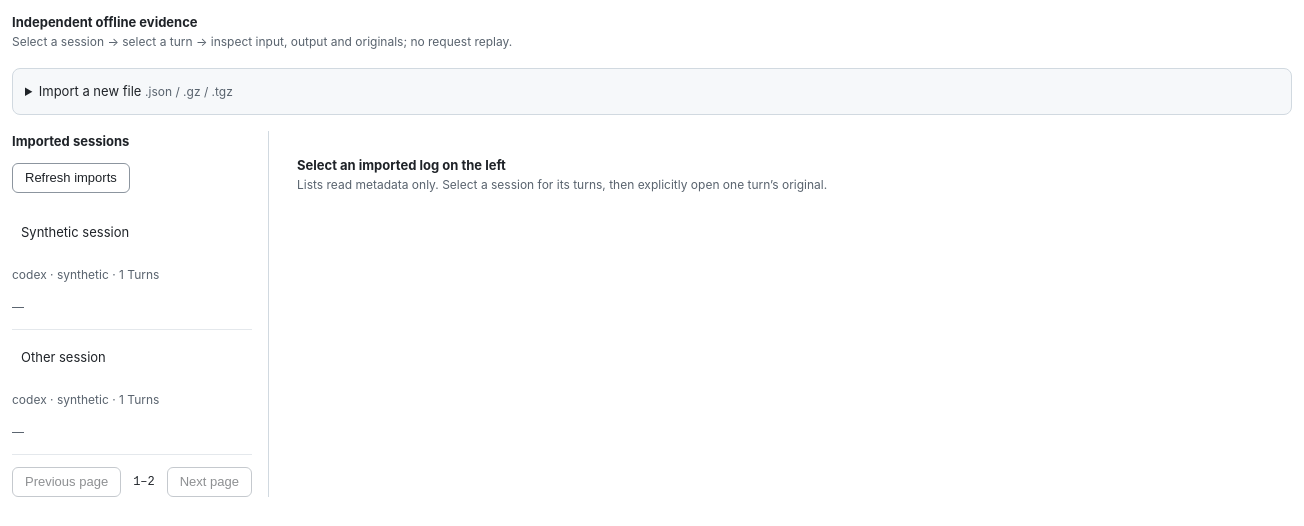
Test: lazy TraceLog import inspection › does not display late old-session turn metadata or a mismatched detail response
This screenshot has width=1304, height=526.
Step 1. Click the button "Synthetic session" → {"x": 132, "y": 235}, box [12,213,252,257]
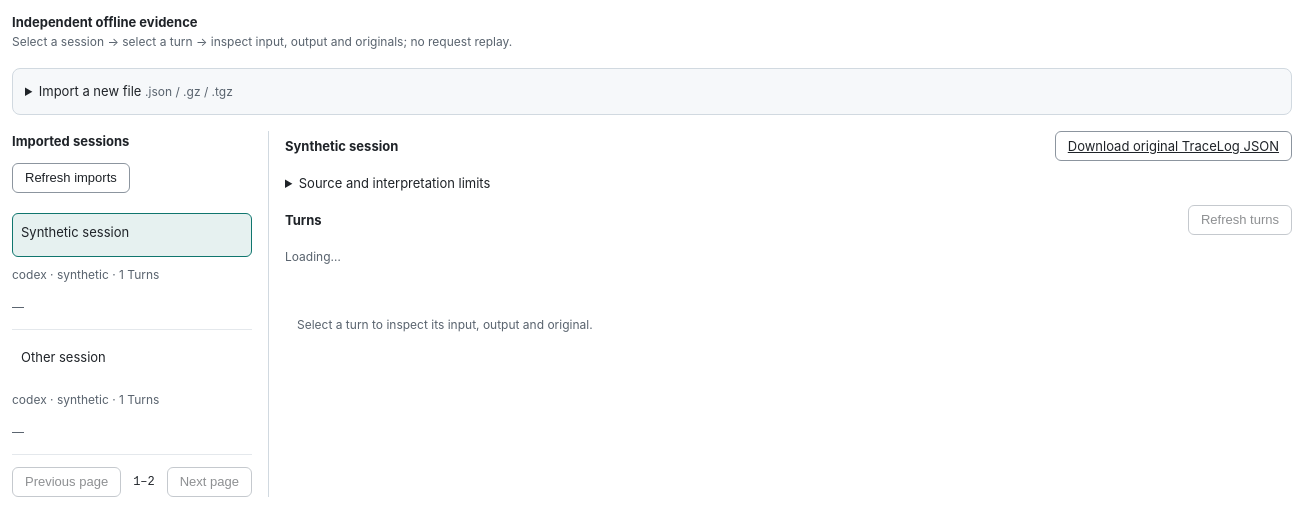
Step 2. Click the button "Other session" → {"x": 132, "y": 360}, box [12,338,252,382]
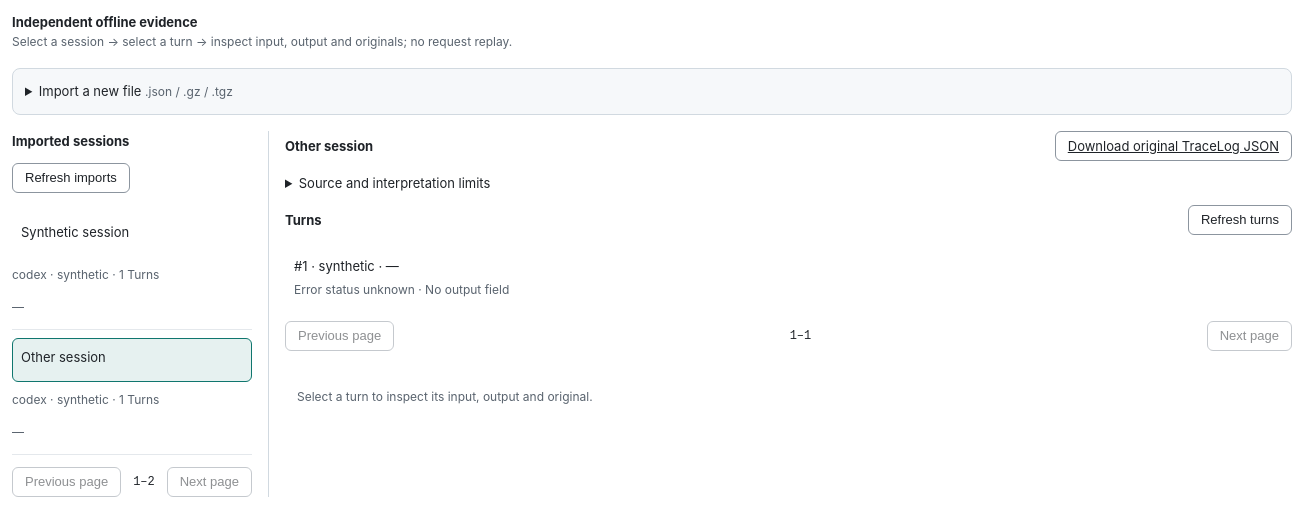
Step 3. Click the button "#1 · synthetic · — Error status unknown · No output field" → {"x": 347, "y": 266}, box [285,247,1292,309]
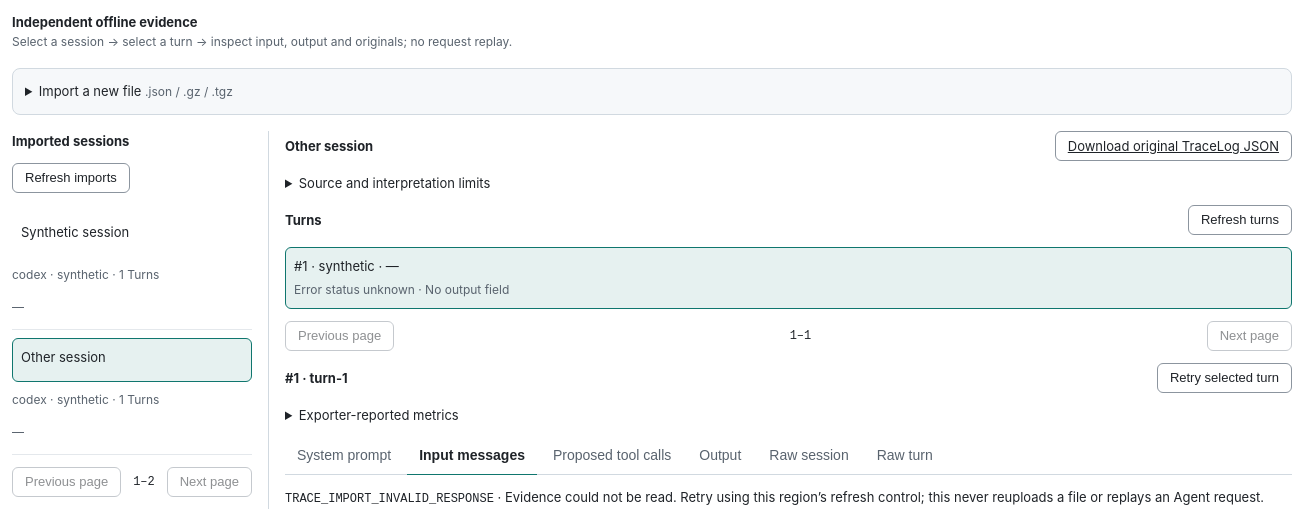
Expected: the text "TRACE_IMPORT_INVALID_RESPONSE" is shown, [285,492,494,506]
